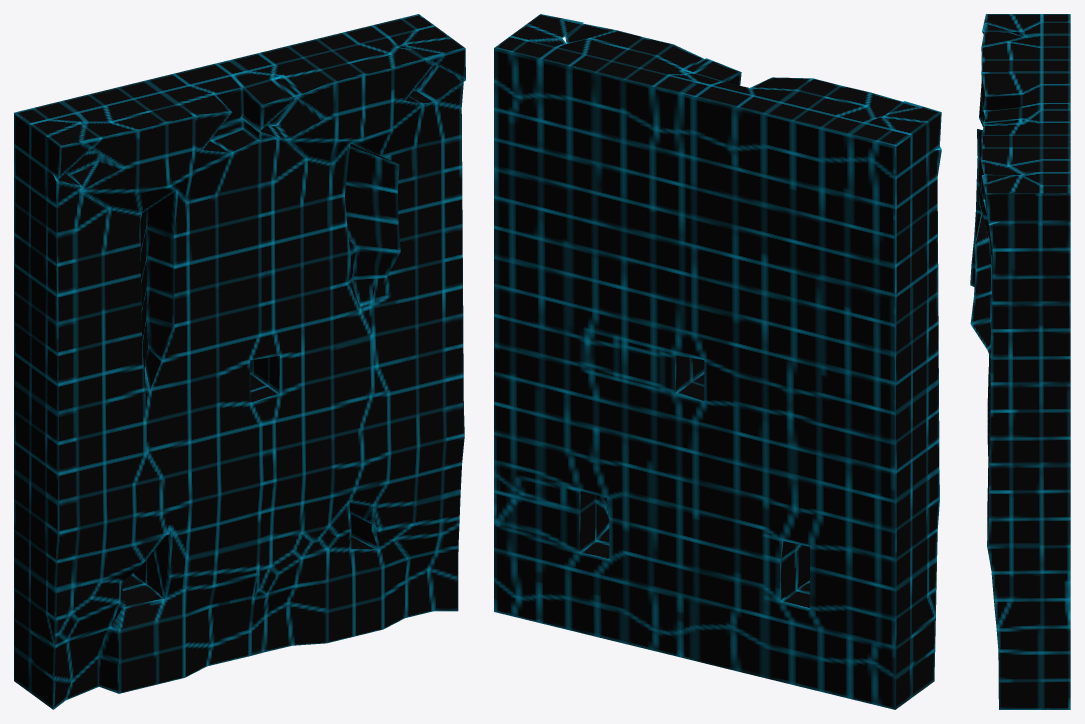
Rendered from Mold1-Core retainer plate-M.glb.
3 renders of one model, left to right at view 1: azimuth 30°, elevation 25°; view 2: azimuth 150°, elevation 25°; view 3: azimuth 270°, elevation 25°, orthographic. The views are drawn at different scales.
Visible parts, largest first — view 1: empreinte inférieure; view 2: empreinte inférieure; view 3: empreinte inférieure.
Part boxes in pixels (bbox=[...]): empreinte inférieure: bbox=[14, 14, 465, 709]; empreinte inférieure: bbox=[494, 14, 941, 709]; empreinte inférieure: bbox=[970, 14, 1070, 709].
Size of the model in its own units: 4.5 by 5.98 by 1.05.
Materials: 1 (1 with a texture image).
